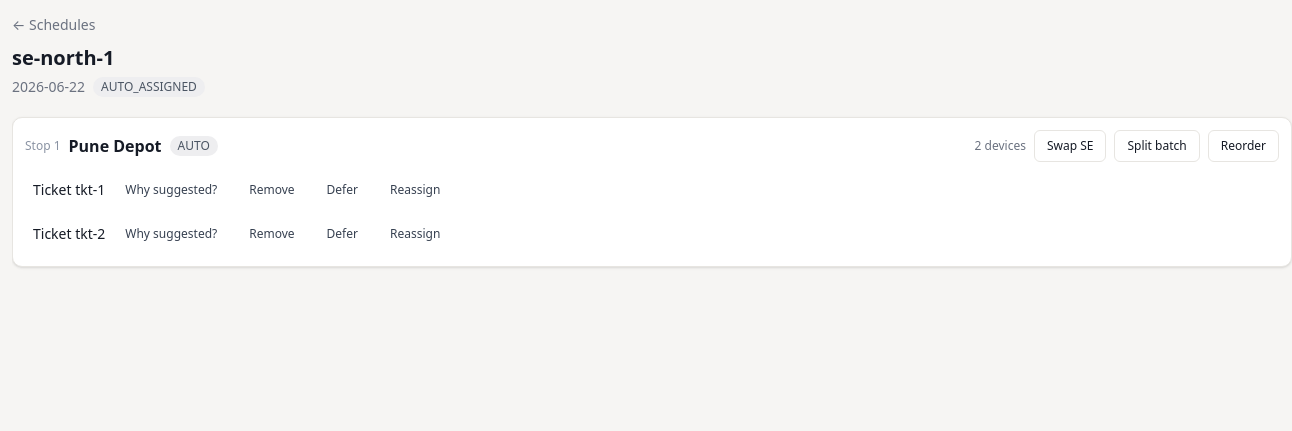
ZM override — ON_SITE conflict banner (Issue 13b AC#5) › surfaces the conflict, then re-submits with confirm to commit
Click the button "Remove" in the row of "tkt-1" at (272, 190), box x1=237 y1=174 x2=307 y2=206
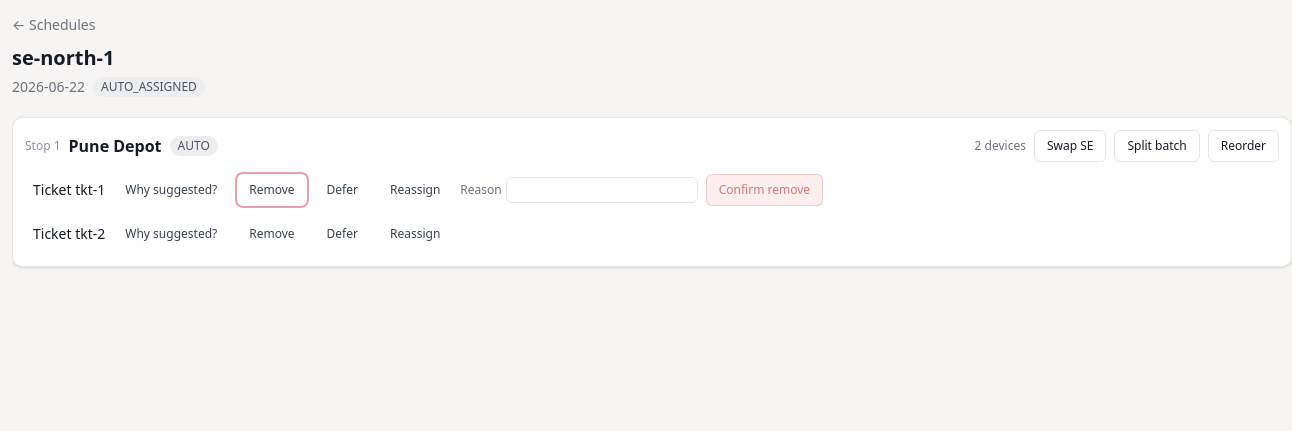
Type "duplicate visit" into the field labelled "Reason" at (602, 190), box x1=506 y1=177 x2=698 y2=203
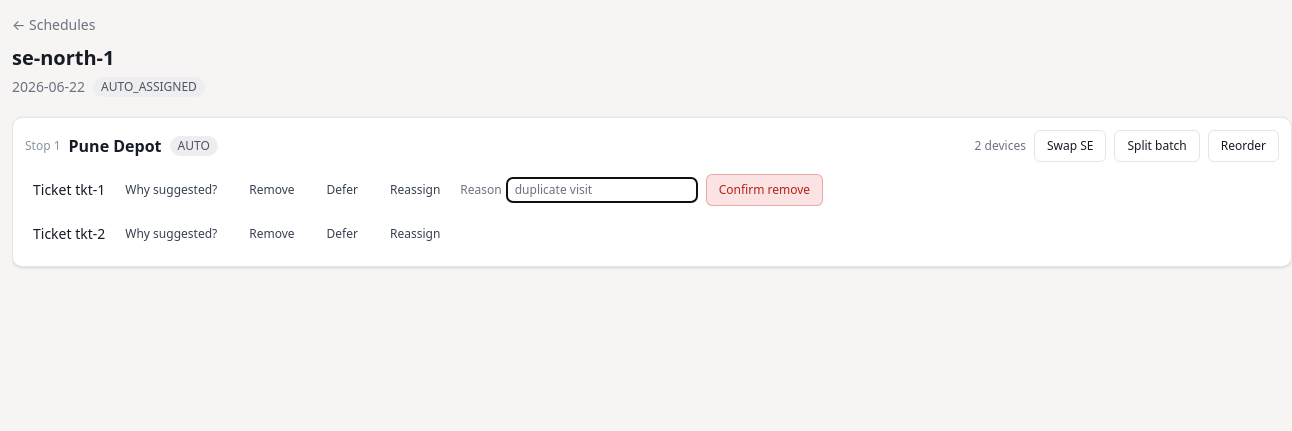
Click the button "Confirm remove" at (764, 190), box x1=706 y1=174 x2=823 y2=206
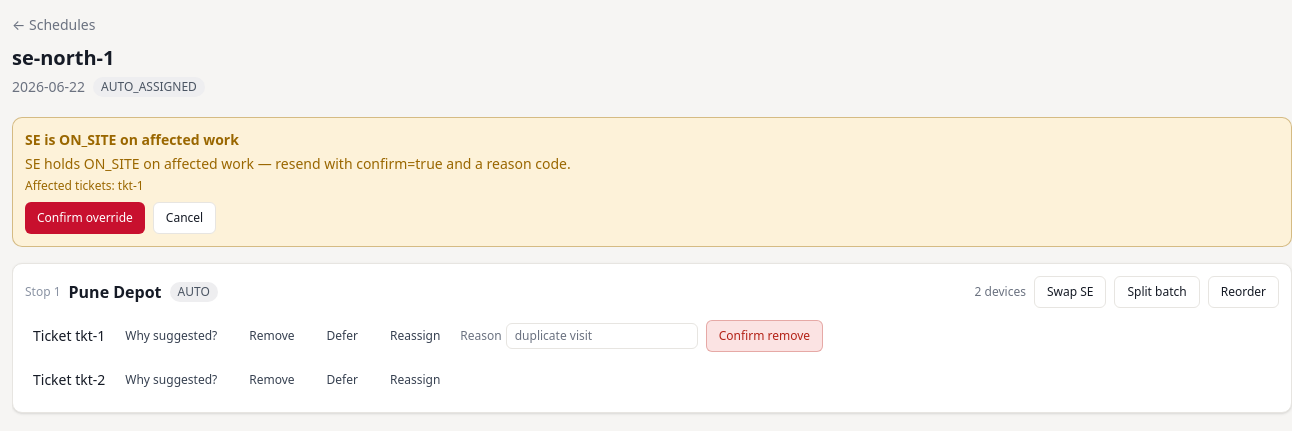
Expected: the list item with test id "ticket-row-tkt-1" is shown, x1=33 y1=320 x2=823 y2=352
Result: the message with test id "onsite-conflict-banner" shows "ON_SITE" at x1=25 y1=130 x2=239 y2=149
Result: the message with test id "onsite-conflict-banner" shows "tkt-1" at x1=118 y1=177 x2=144 y2=194
Click the button "Confirm override" at (85, 218), box x1=25 y1=202 x2=145 y2=234
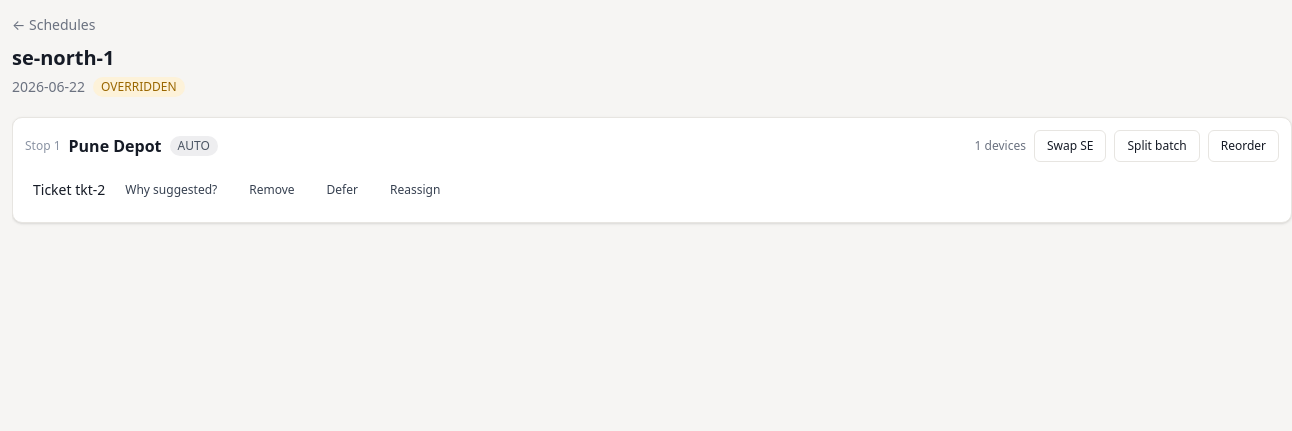
Result: the list item with test id "ticket-row-tkt-1" is gone
Result: the message with test id "onsite-conflict-banner" is gone
